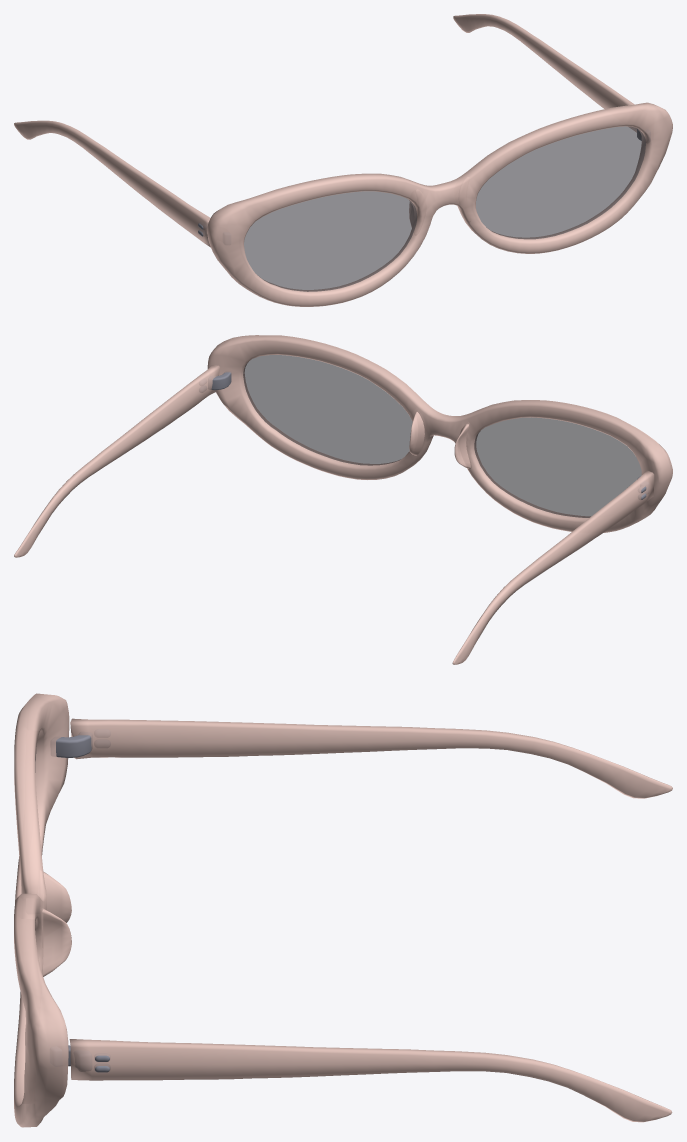
The model's file is milk.glb.
3 renders of one model, top to bottom at view 1: azimuth 30°, elevation 25°; view 2: azimuth 150°, elevation 25°; view 3: azimuth 270°, elevation 25°, orthographic. The views are drawn at different scales.
Parts seen in each view (by area): view 1: model_6; view 2: model_6; view 3: model_6.
Part boxes in pixels (x1,y1,x2,y2): model_6: (14,14,672,306); model_6: (14,335,672,664); model_6: (14,693,672,1127).
Bounding box in the file's own units: 2.21 × 0.5738 × 1.81.
